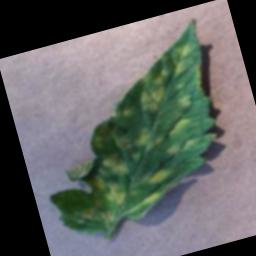Leaf_Mold: (87, 168, 127, 211), (133, 123, 168, 156), (133, 85, 168, 116), (99, 149, 131, 180), (150, 60, 187, 84), (139, 166, 169, 188), (164, 114, 192, 136), (171, 40, 194, 60), (140, 190, 163, 206), (175, 92, 194, 110)
